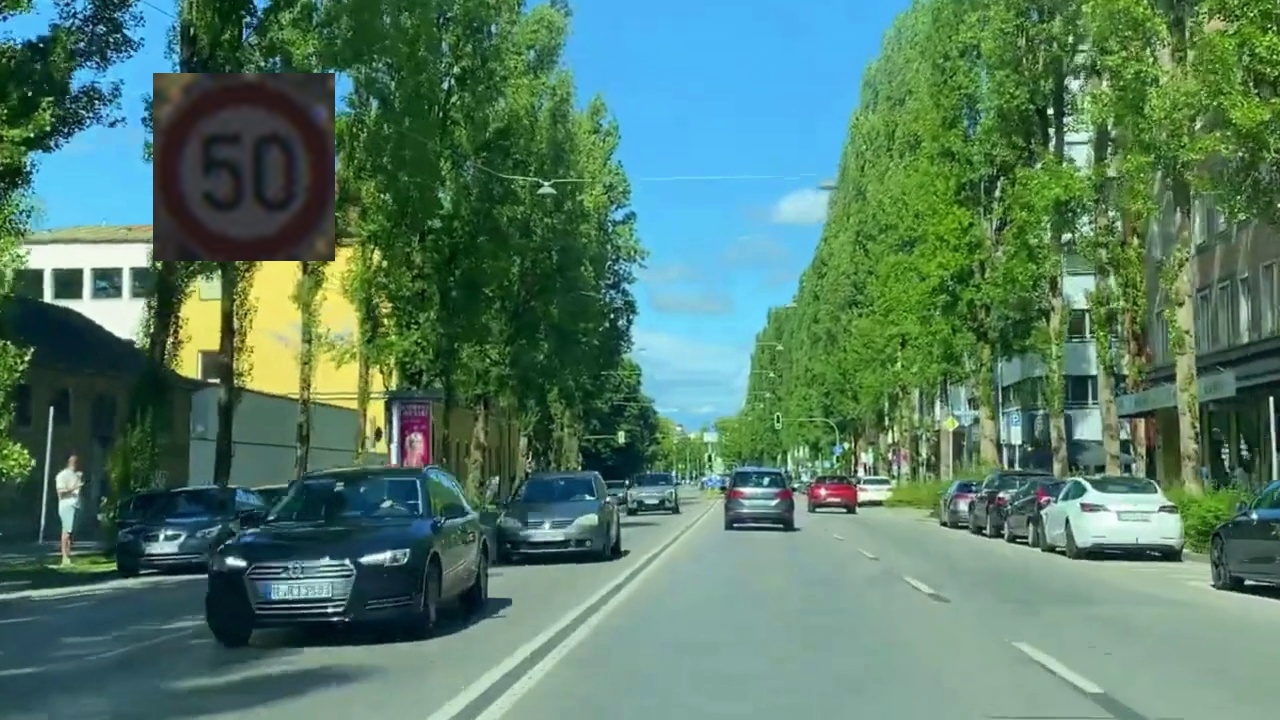Speed 50: (153, 73, 335, 261)
